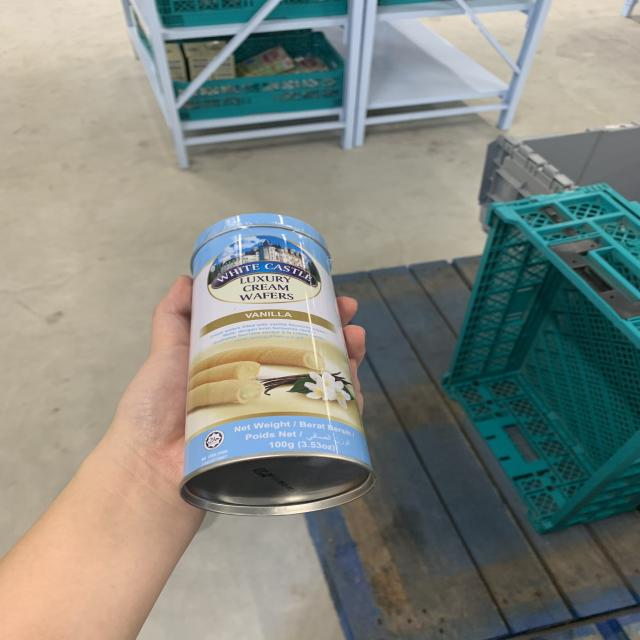object_name: (189, 227, 356, 492)
